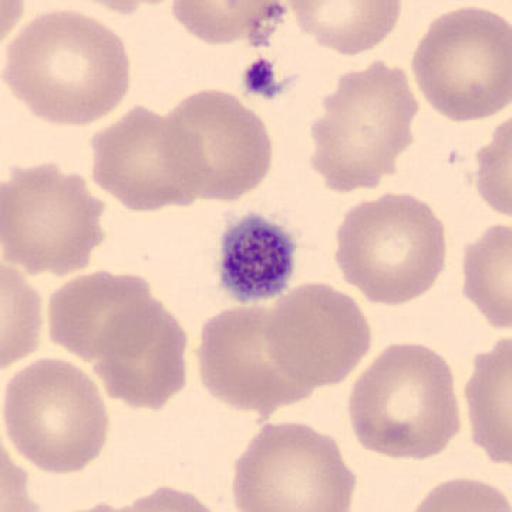Platelet: (216, 210, 299, 305)
RBC: (4, 8, 132, 128), (309, 58, 419, 194), (196, 303, 319, 419), (346, 340, 462, 461), (334, 190, 448, 308), (162, 86, 273, 205), (89, 103, 203, 214), (2, 357, 110, 474), (2, 160, 106, 280), (409, 3, 512, 123), (262, 280, 374, 389), (230, 419, 358, 512), (92, 302, 188, 412), (46, 267, 153, 363), (463, 333, 512, 467), (286, 0, 403, 56), (461, 220, 512, 334), (171, 0, 294, 45), (2, 262, 42, 368), (82, 484, 232, 512), (475, 111, 512, 220), (406, 475, 511, 512), (0, 419, 41, 512), (1, 447, 46, 512), (65, 0, 174, 17), (0, 0, 26, 52), (70, 0, 148, 17), (57, 499, 139, 512)
